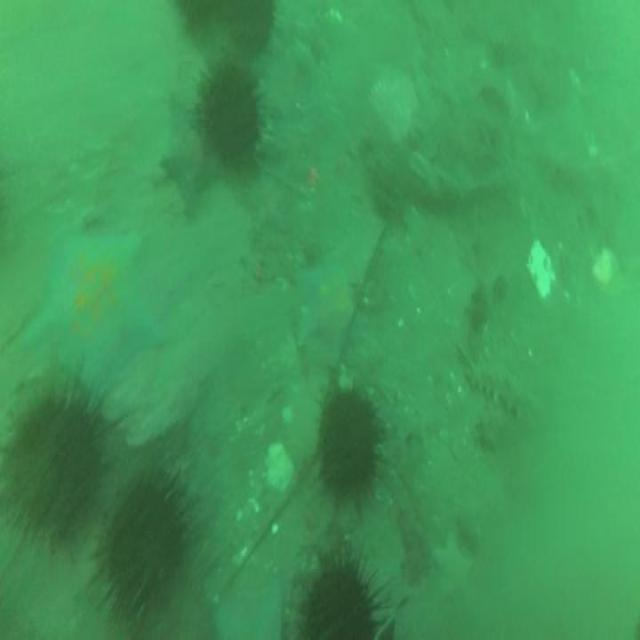echinus: (5, 398, 98, 542), (101, 465, 188, 616), (198, 66, 260, 168), (320, 395, 377, 493), (306, 570, 374, 640)
holothurian: (465, 365, 536, 424)
scallop: (371, 71, 415, 144)
starfish: (24, 231, 160, 392), (292, 262, 356, 364)
